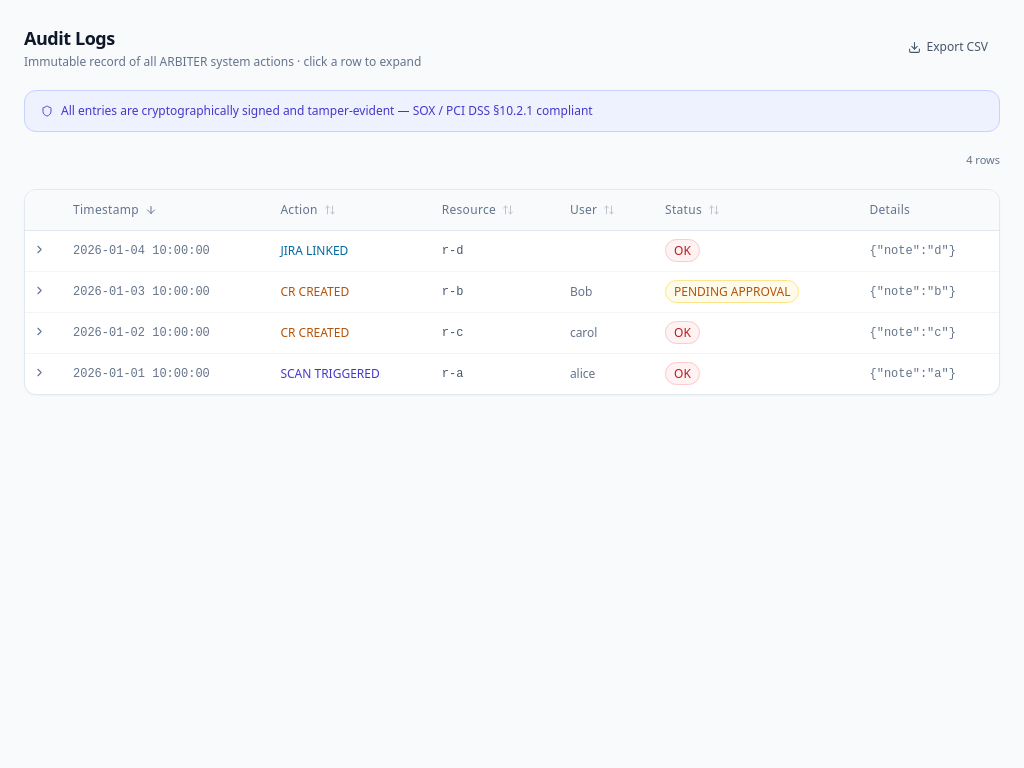
AuditLogs — row expansion still works after a sort change › clicking a row body after sorting expands its detail panel
Switch to User asc so the top row is r-a (alice).
What coordinates should you click on to do the following:
click the button "User"
I would click on:
 (593, 210)
Its box is [570,202,615,218].
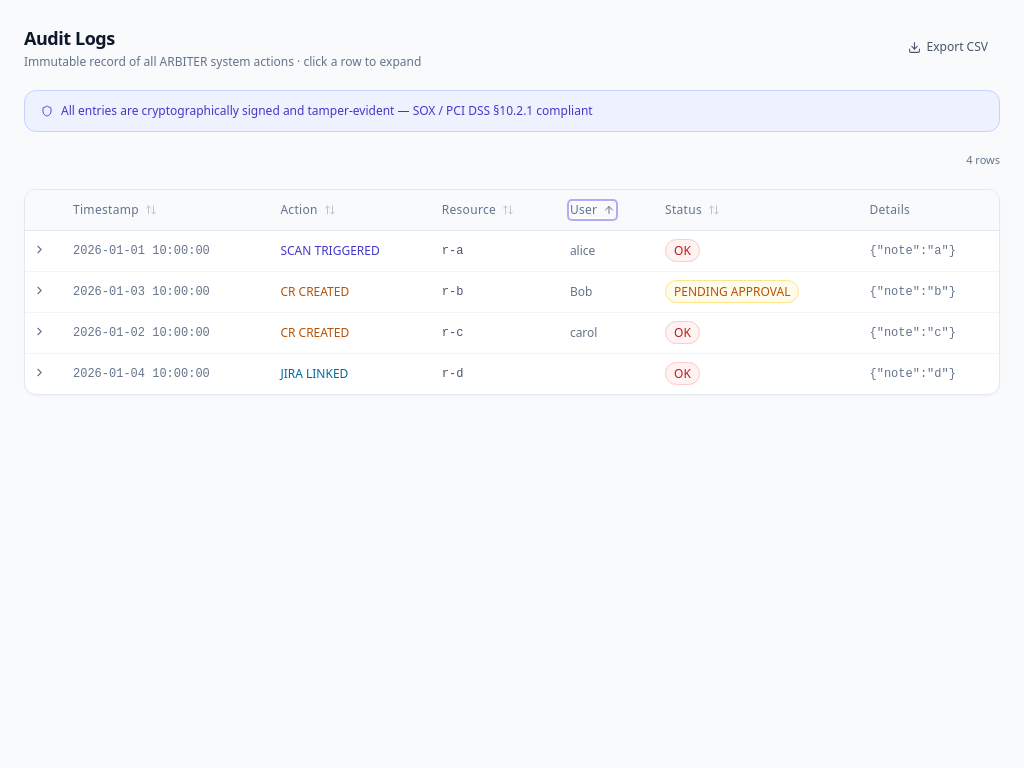
Expected: the cell "alice" is shown, [554,230,649,271]
Expected: the text "Event ID" is not shown
Click the body of the first data row (r-a) — toggles expansion.
What coordinates should you click on to do the following:
click the row "2026-01-01 10:00:00 SCAN TRIGGERED r-a alice OK {\"note\":\"a\"}"
I would click on:
 (512, 250)
Its box is [25,230,999,271].
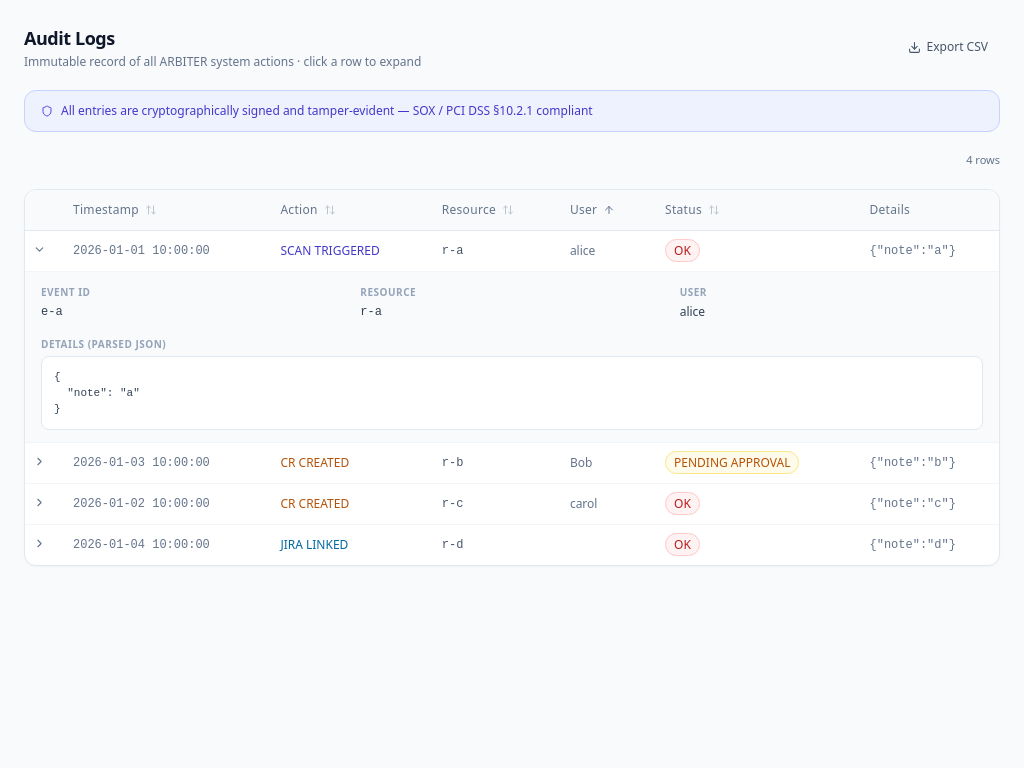
Expected: the text "Event ID" is shown, [41,284,90,298]
Expected: the text "e-a" is shown, [41,304,63,318]
